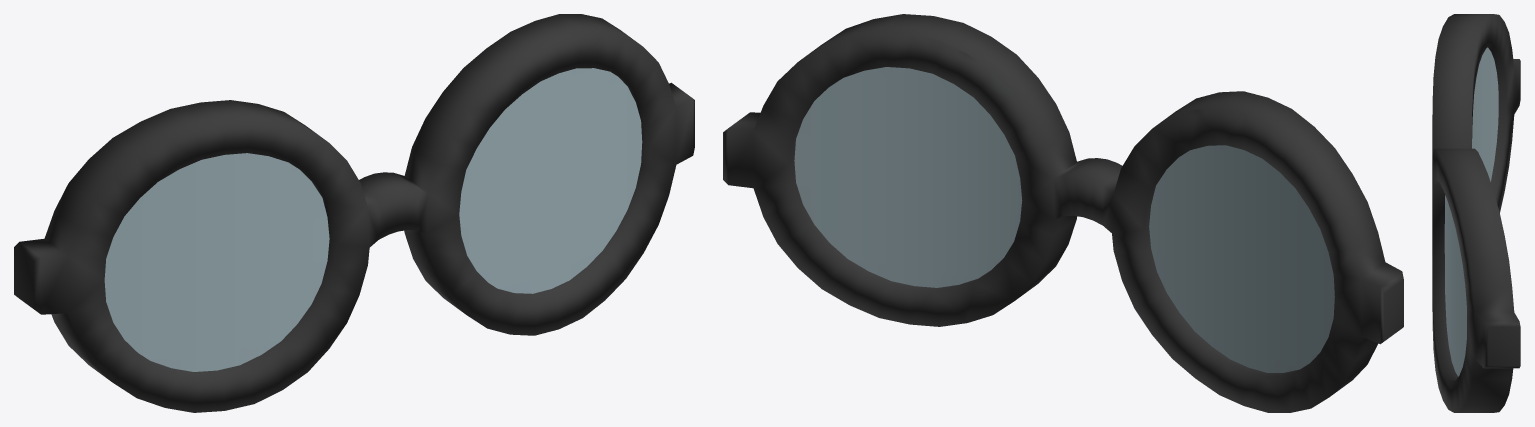
The model's file is AccessoryGlassBottleBlack.glb.
3 views of the same model, side by side, from view 1: azimuth 30°, elevation 25°; view 2: azimuth 150°, elevation 25°; view 3: azimuth 270°, elevation 25° (orthographic). The views are drawn at different scales.
Visible parts, largest first — view 1: Accessory__mAccessory; view 2: Accessory__mAccessory; view 3: Accessory__mAccessory.
Boxes of the visible parts, box(x1,y1,x2,y2) form: Accessory__mAccessory: box(14, 14, 694, 412); Accessory__mAccessory: box(723, 14, 1403, 412); Accessory__mAccessory: box(1432, 14, 1520, 412).
Size of the model in its own units: 6.16 by 2.59 by 0.8635.
Materials: 1 (1 with a texture image).
